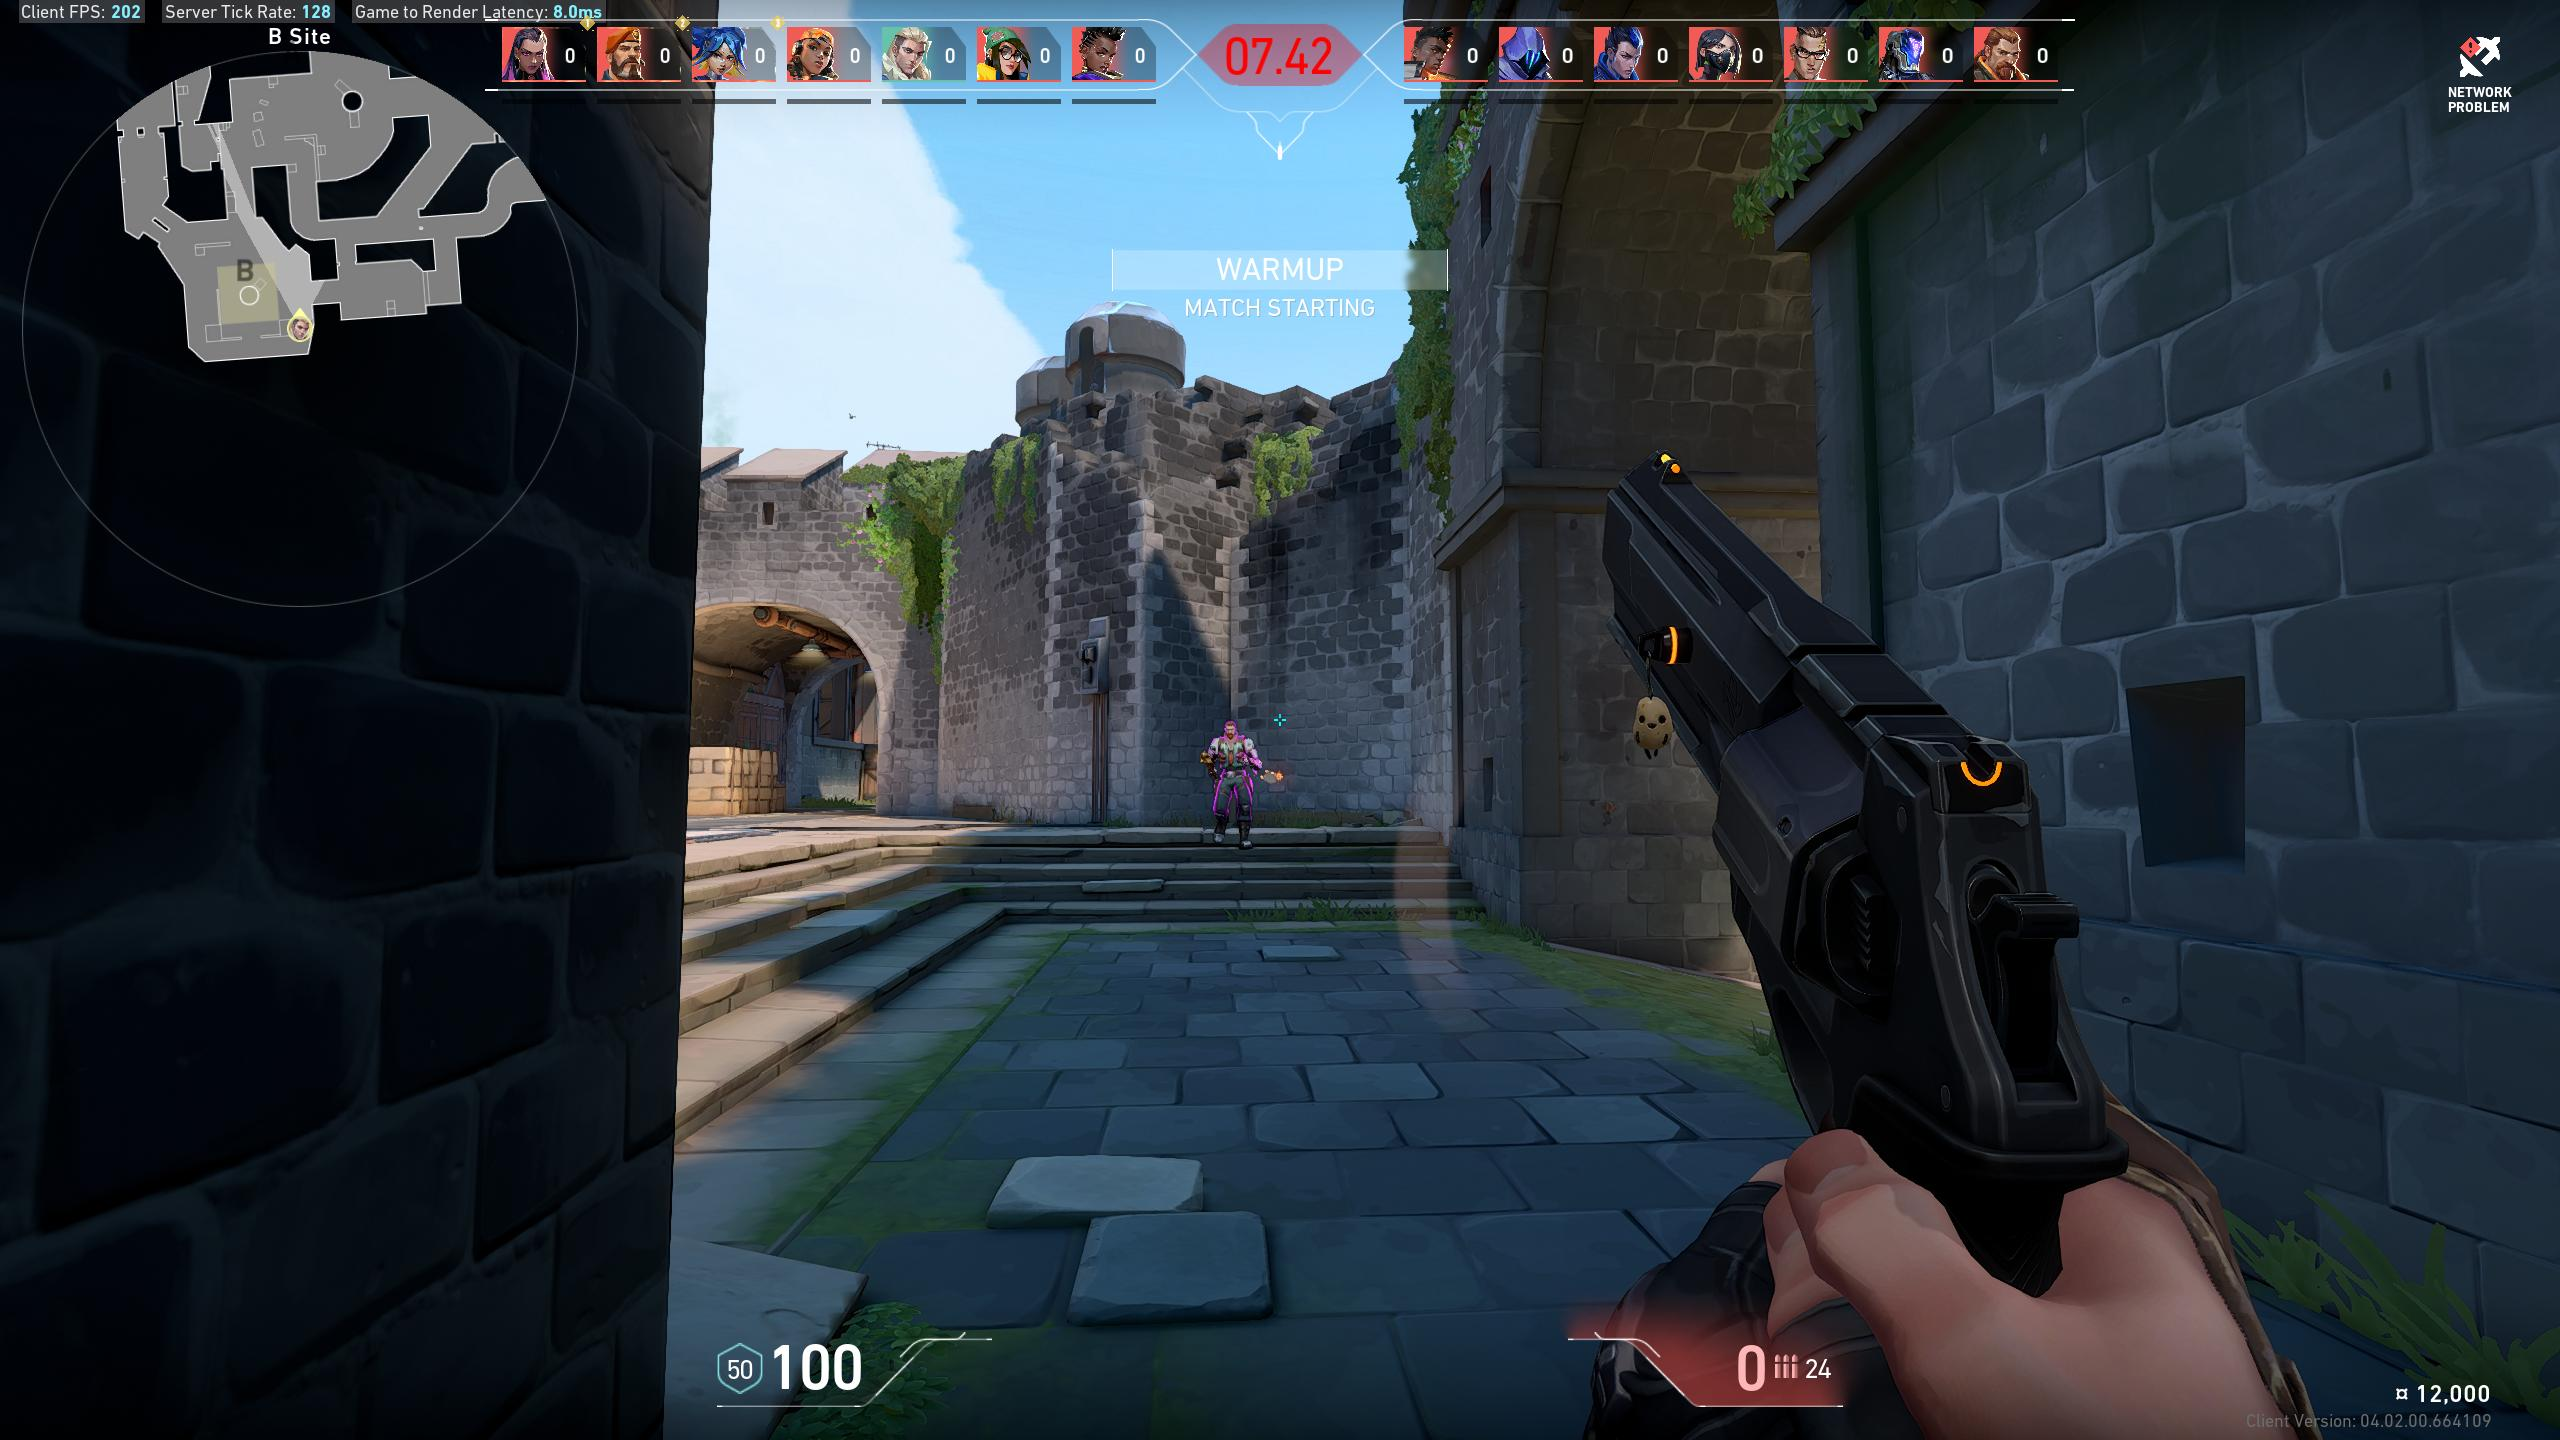enemyBody: (1224, 740, 1245, 772)
enemyHead: (1225, 726, 1234, 737)
